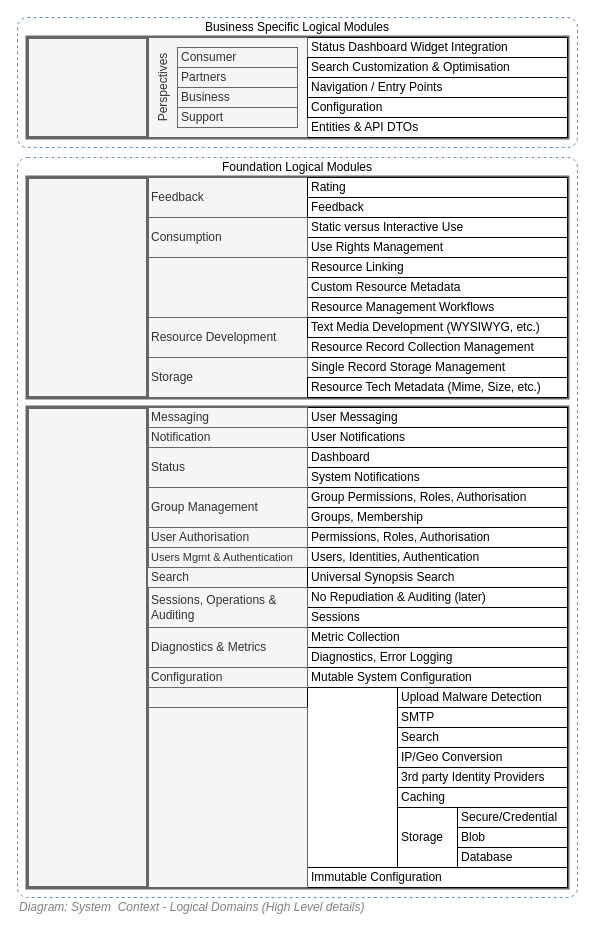
Image size: 595x935. Some labels were removed from this diagram. The centre of each missing label's shape, as x and y in pixels:
"Automation Core Domain" belongs at [87,647].
"Integration" belongs at [352,777].
"Resource Classification" belongs at [227,287].
"Shared Resources Domain" belongs at [87,287].
"Specific Business Domains" belongs at [87,87].
"Technology Integration" belongs at [227,797].
